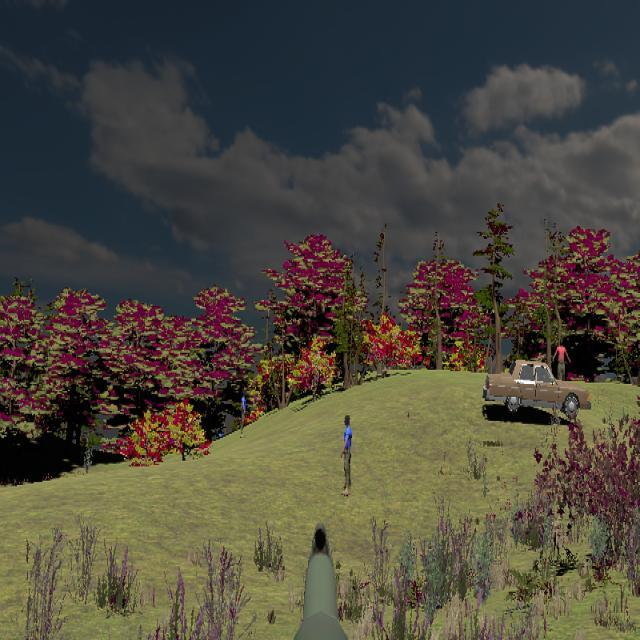Human: (552, 337, 571, 390), (341, 414, 352, 497)
car: (483, 359, 593, 422)
